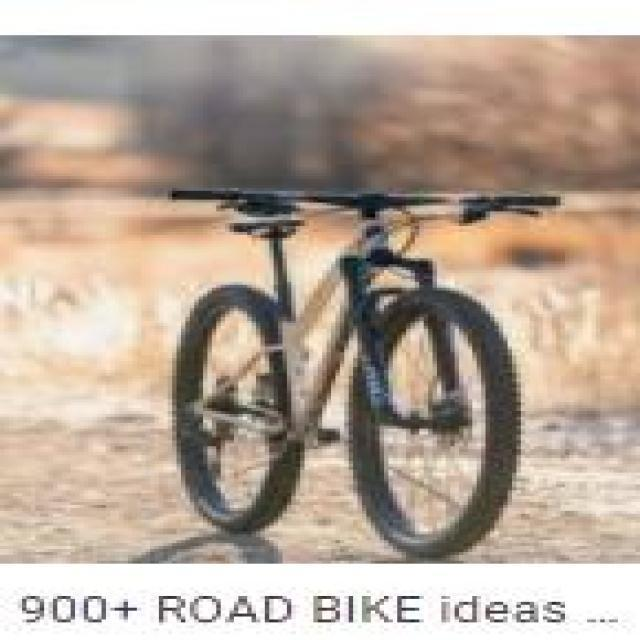bicycle: (173, 195, 518, 559)
